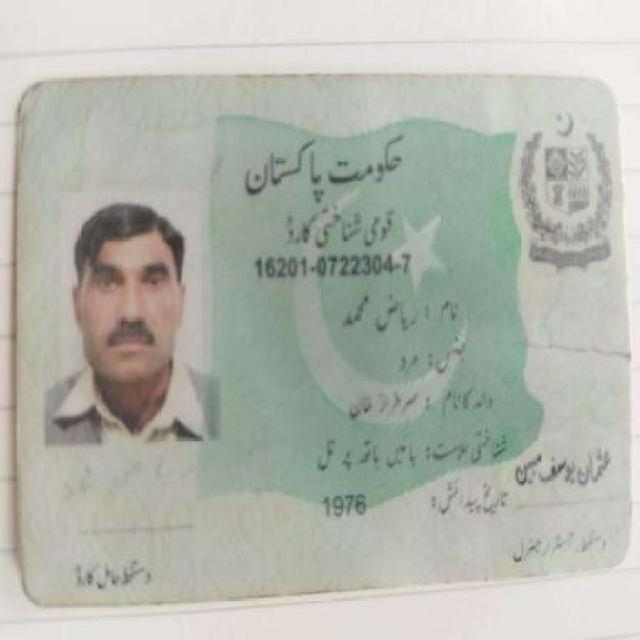Front: (9, 80, 631, 592)
